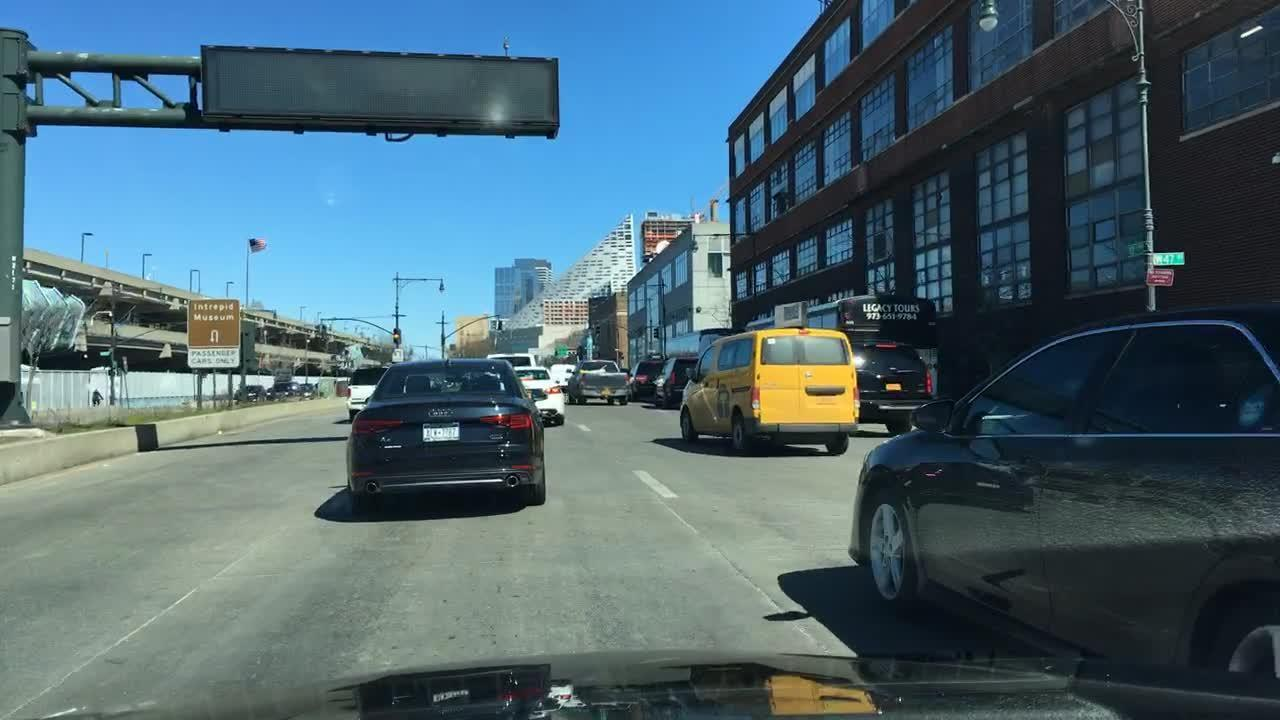Audi: (423, 400, 460, 423)
